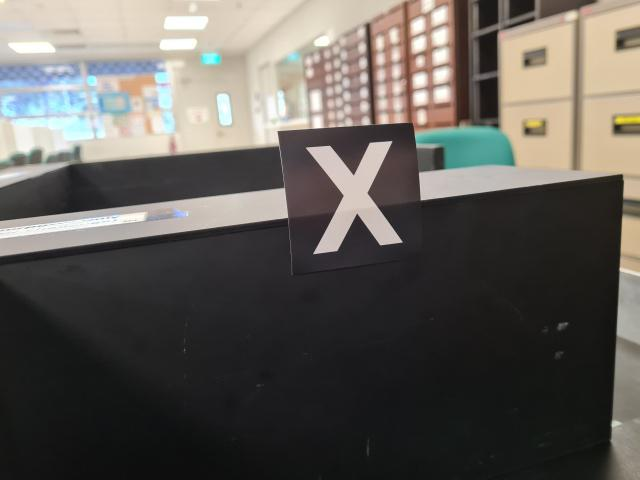x: (276, 124, 426, 276)
